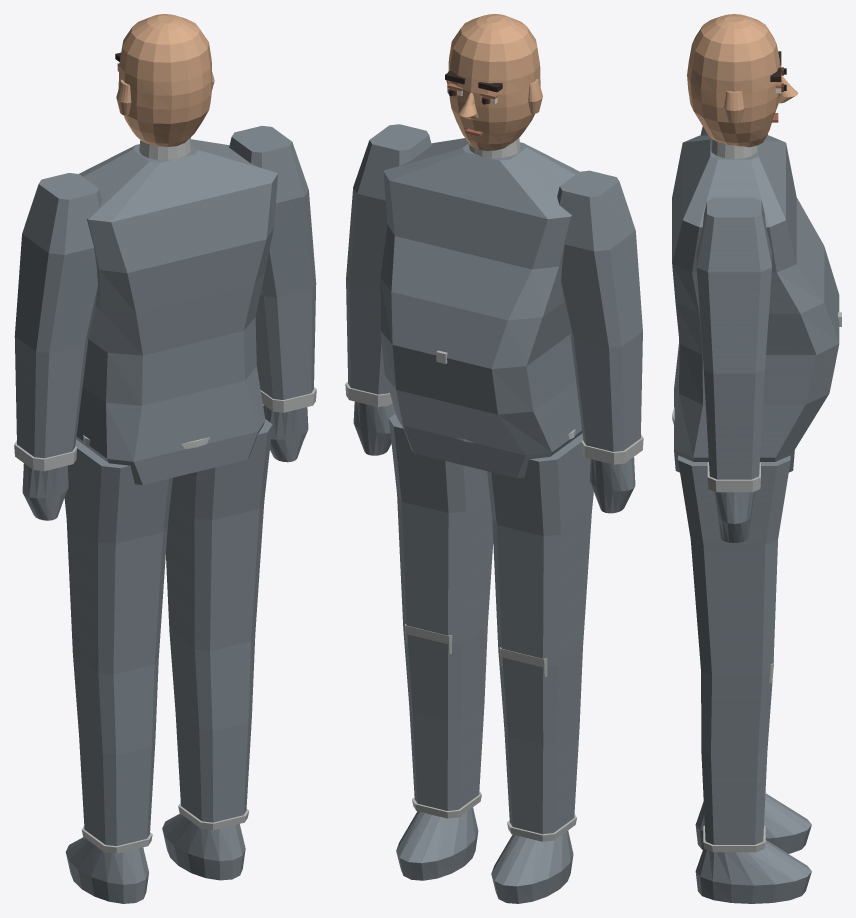
3 views of the same model, side by side, from view 1: azimuth 30°, elevation 25°; view 2: azimuth 150°, elevation 25°; view 3: azimuth 270°, elevation 25° (orthographic).
Visible parts, largest first — view 1: 衣身腹段替换槽 · adultA, 孕期腹部造型替换件 · middle, 精细成年头部母版; view 2: 衣身腹段替换槽 · adultA, 孕期腹部造型替换件 · middle, 精细成年头部母版; view 3: 衣身腹段替换槽 · adultA, 孕期腹部造型替换件 · middle, 精细成年头部母版.
Part boxes in pixels (x1,y1,x2,y2): 衣身腹段替换槽 · adultA: [14, 126, 316, 903]; 孕期腹部造型替换件 · middle: [76, 228, 273, 461]; 精细成年头部母版: [115, 14, 214, 146]; 衣身腹段替换槽 · adultA: [345, 124, 643, 903]; 孕期腹部造型替换件 · middle: [380, 225, 581, 455]; 精细成年头部母版: [445, 14, 542, 150]; 衣身腹段替换槽 · adultA: [672, 126, 811, 903]; 孕期腹部造型替换件 · middle: [672, 197, 841, 457]; 精细成年头部母版: [687, 14, 798, 147].
Size of the model in its own units: 0.5883 by 1.7 by 0.308.
9 materials, 9 textured.
